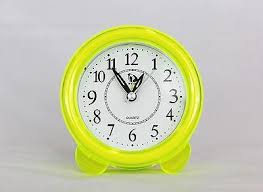alarm_clock: (59, 23, 204, 172), (63, 23, 204, 172), (63, 27, 204, 172)
